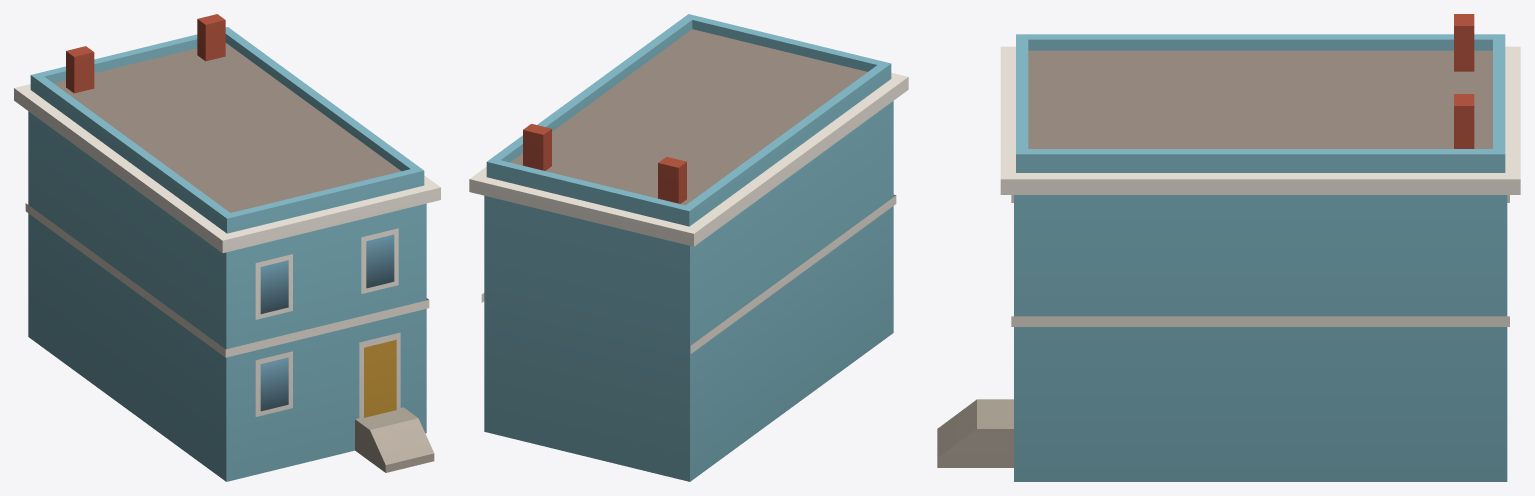
File: beacon_n19_far.glb
The picture shows the model from 3 angles, left to right: view 1: azimuth 30°, elevation 25°; view 2: azimuth 150°, elevation 25°; view 3: azimuth 270°, elevation 25°; orthographic projection. The views are drawn at different scales.
Parts seen in each view (by area): view 1: beacon_n19_far; view 2: beacon_n19_far; view 3: beacon_n19_far.
Boxes of the visible parts, x1,y1,x2,y2 form: beacon_n19_far: (14, 14, 440, 481); beacon_n19_far: (469, 14, 908, 481); beacon_n19_far: (937, 14, 1520, 481).
Bounding box in the file's own units: 7.64 × 9.69 × 14.18.
Materials: 1 (1 with a texture image).
